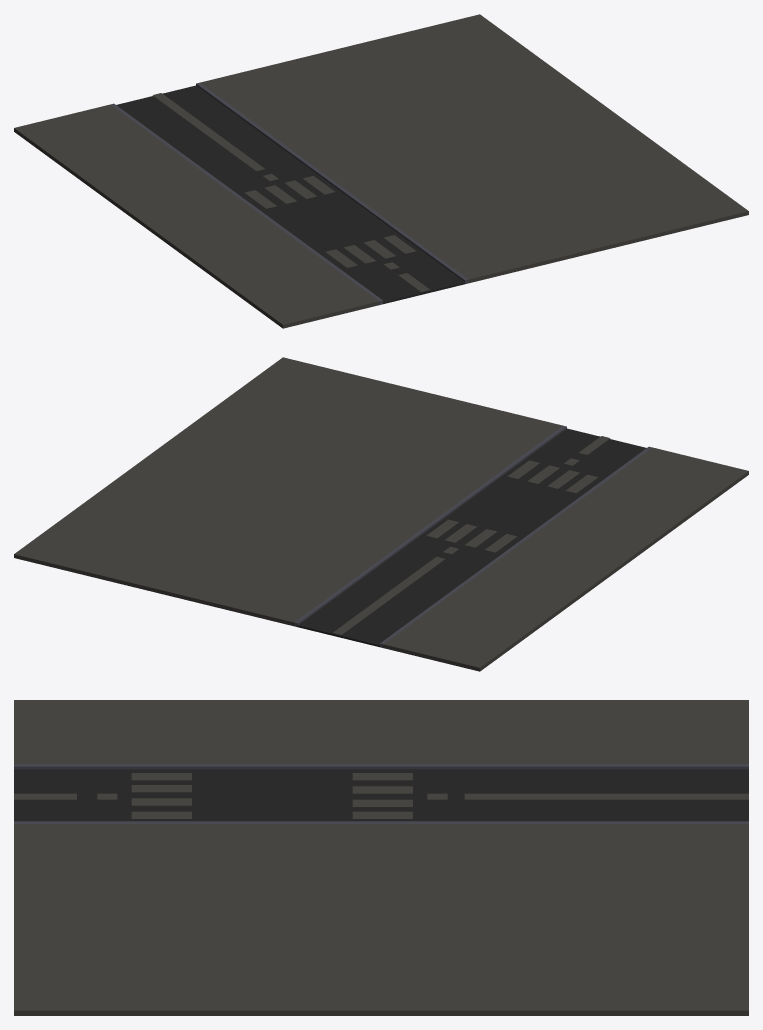
File: Street_Mesh_001.fbx
3 renders of one model, top to bottom at view 1: azimuth 30°, elevation 25°; view 2: azimuth 150°, elevation 25°; view 3: azimuth 270°, elevation 25°, orthographic. The views are drawn at different scales.
Parts seen in each view (by area): view 1: Street_001; view 2: Street_001; view 3: Street_001.
Boxes of the visible parts, x1,y1,x2,y2 form: Street_001: (14,14,748,328); Street_001: (14,357,748,671); Street_001: (14,700,748,1015).
Bounding box in the file's own units: 25.6 × 0.2 × 25.6.
